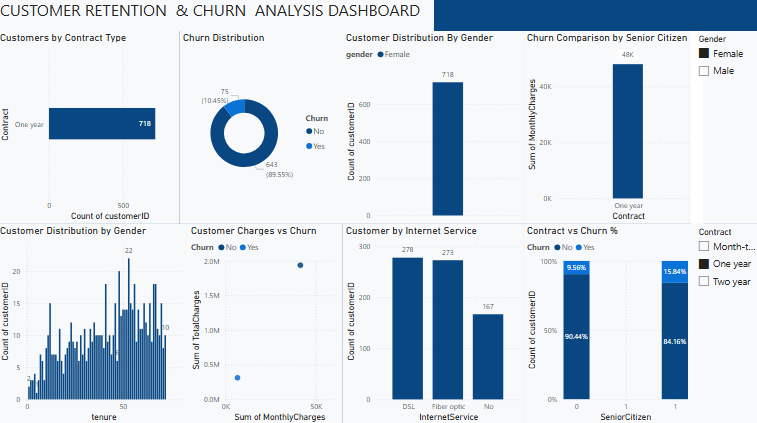

The dashboard page shown, as its layout file describes it:
{"tool":"powerbi","page":{"name":"Page 1","canvas":[1280,720],"ordinal":0},"visuals":[{"type":"clusteredBarChart","title":"Customers by Contract Type","fields":{"Category":["Total Customers = COUNT('WA_Fn-UseC_-Telco-Customer-Churn'[customerID]).Contract"],"Y":["CountNonNull(Total Customers = COUNT('WA_Fn-UseC_-Telco-Customer-Churn'[customerID]).customerID)"]},"box":[0,58.5,307.3,324.9],"z":0},{"type":"donutChart","title":"Churn Distribution","fields":{"Category":["Total Customers = COUNT('WA_Fn-UseC_-Telco-Customer-Churn'[customerID]).Churn"],"Y":["CountNonNull(Total Customers = COUNT('WA_Fn-UseC_-Telco-Customer-Churn'[customerID]).customerID)"]},"box":[307.4,58.8,273.8,324.2],"z":1000},{"type":"clusteredColumnChart","title":"Customer Distribution by Gender","fields":{"Category":["Total Customers = COUNT('WA_Fn-UseC_-Telco-Customer-Churn'[customerID]).tenure"],"Y":["CountNonNull(Total Customers = COUNT('WA_Fn-UseC_-Telco-Customer-Churn'[customerID]).customerID)"]},"box":[0,383,320.8,337.6],"z":2000},{"type":"scatterChart","title":"Customer Charges vs Churn","fields":{"X":["Sum(Total Customers = COUNT('WA_Fn-UseC_-Telco-Customer-Churn'[customerID]).MonthlyCharges)"],"Y":["Sum(Total Customers = COUNT('WA_Fn-UseC_-Telco-Customer-Churn'[customerID]).TotalCharges)"],"Series":["Total Customers = COUNT('WA_Fn-UseC_-Telco-Customer-Churn'[customerID]).Churn"]},"box":[320.8,383,260.4,337.6],"z":3000},{"type":"clusteredColumnChart","title":"Customer Distribution By Gender","fields":{"Series":["Total Customers = COUNT('WA_Fn-UseC_-Telco-Customer-Churn'[customerID]).gender"],"Y":["CountNonNull(Total Customers = COUNT('WA_Fn-UseC_-Telco-Customer-Churn'[customerID]).customerID)"]},"box":[581.2,58.8,304,324.2],"z":4000},{"type":"clusteredColumnChart","title":"Customer by Internet Service","fields":{"Category":["Total Customers = COUNT('WA_Fn-UseC_-Telco-Customer-Churn'[customerID]).InternetService"],"Y":["CountNonNull(Total Customers = COUNT('WA_Fn-UseC_-Telco-Customer-Churn'[customerID]).customerID)"]},"box":[581.2,383,304,337.6],"z":5000},{"type":"lineStackedColumnComboChart","title":"Churn Comparison by Senior Citizen","fields":{"Category":["Total Customers = COUNT('WA_Fn-UseC_-Telco-Customer-Churn'[customerID]).Contract"],"Y":["Sum(Total Customers = COUNT('WA_Fn-UseC_-Telco-Customer-Churn'[customerID]).MonthlyCharges)"]},"box":[885.2,58.8,300.7,324.2],"z":6000},{"type":"hundredPercentStackedColumnChart","title":"Contract vs Churn %","fields":{"Category":["Total Customers = COUNT('WA_Fn-UseC_-Telco-Customer-Churn'[customerID]).SeniorCitizen"],"Y":["CountNonNull(Total Customers = COUNT('WA_Fn-UseC_-Telco-Customer-Churn'[customerID]).customerID)"],"Series":["Total Customers = COUNT('WA_Fn-UseC_-Telco-Customer-Churn'[customerID]).Churn"]},"box":[885.2,383,280.5,337.6],"z":7000},{"type":"slicer","fields":{"Values":["Total Customers = COUNT('WA_Fn-UseC_-Telco-Customer-Churn'[customerID]).gender"]},"box":[1165.8,58.8,114.2,324.2],"z":7001},{"type":"slicer","fields":{"Values":["Total Customers = COUNT('WA_Fn-UseC_-Telco-Customer-Churn'[customerID]).Contract"]},"box":[1165.8,383,114.2,337.6],"z":7002},{"type":"textbox","box":[0,0,734.1,58.8],"z":7004}]}

Visuals, with their boxes in screenshot pixels (x1, y1, x2, y2), scaled from the page's 1280x720 canvas onto the 757x423 screenshot:
"Customers by Contract Type" clusteredBarChart: crop(0, 34, 182, 225)
"Churn Distribution" donutChart: crop(182, 35, 344, 225)
"Customer Distribution by Gender" clusteredColumnChart: crop(0, 225, 190, 422)
"Customer Charges vs Churn" scatterChart: crop(190, 225, 344, 422)
"Customer Distribution By Gender" clusteredColumnChart: crop(344, 35, 524, 225)
"Customer by Internet Service" clusteredColumnChart: crop(344, 225, 524, 422)
"Churn Comparison by Senior Citizen" lineStackedColumnComboChart: crop(524, 35, 701, 225)
"Contract vs Churn %" hundredPercentStackedColumnChart: crop(524, 225, 689, 422)
slicer - Total Customers = COUNT('WA_Fn-UseC_-Telco-Customer-Churn'[customerID]).gender: crop(689, 35, 756, 225)
slicer - Total Customers = COUNT('WA_Fn-UseC_-Telco-Customer-Churn'[customerID]).Contract: crop(689, 225, 756, 422)
textbox: crop(0, 0, 434, 35)
